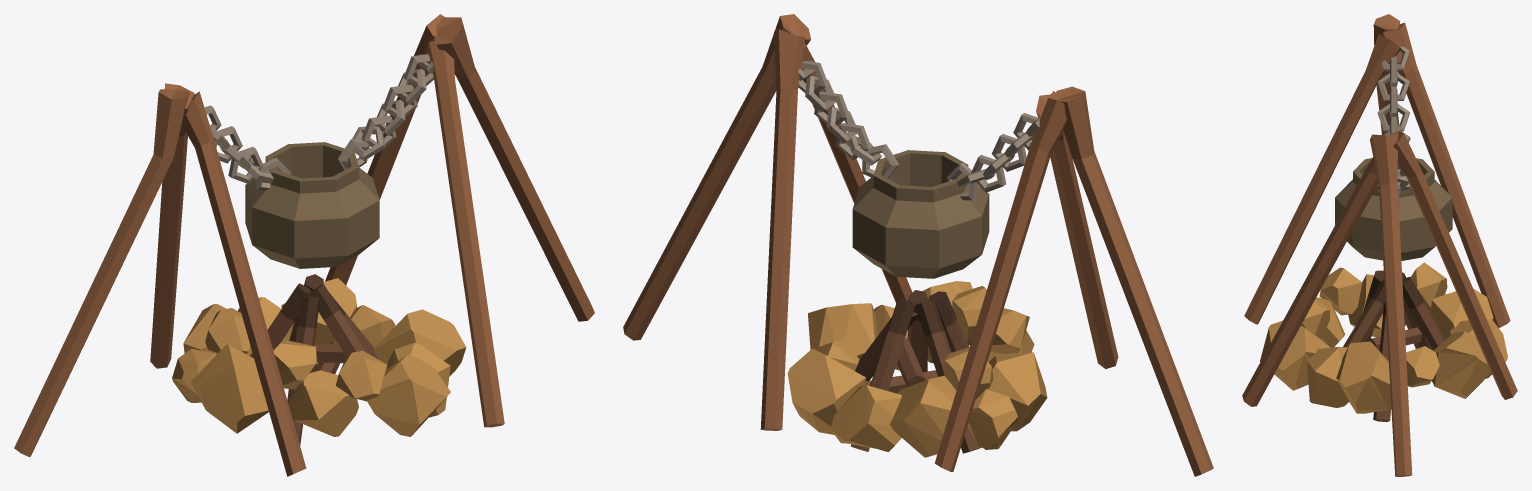
The model's file is Model_Desert_2x1A.fbx.
The picture shows the model from 3 angles, left to right: view 1: azimuth 30°, elevation 25°; view 2: azimuth 150°, elevation 25°; view 3: azimuth 270°, elevation 25°; orthographic projection. The views are drawn at different scales.
Parts seen in each view (by area): view 1: Model_Frost_2x1A; view 2: Model_Frost_2x1A; view 3: Model_Frost_2x1A.
Part boxes in pixels (x1,y1,x2,y2): Model_Frost_2x1A: [14, 14, 594, 476]; Model_Frost_2x1A: [623, 14, 1213, 476]; Model_Frost_2x1A: [1242, 14, 1517, 476].
Bounding box in the file's own units: 376 × 232 × 184.
1 material, 1 textured.
